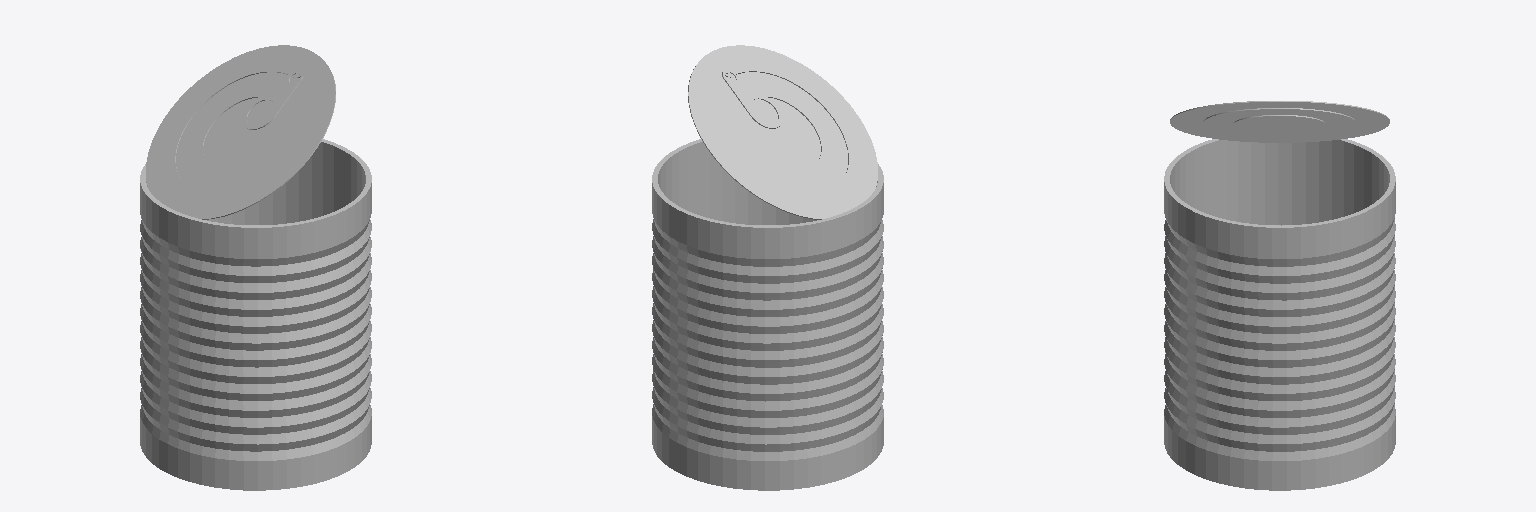
Rendered from Canfood.obj.
3 views of the same model, side by side, from view 1: azimuth 30°, elevation 25°; view 2: azimuth 150°, elevation 25°; view 3: azimuth 270°, elevation 25° (orthographic).
Visible parts, largest first — view 1: Mesh1 Group1 Model, Mesh2 Group3 Group2 Model, Mesh3 Group4 Group2 Model; view 2: Mesh1 Group1 Model, Mesh2 Group3 Group2 Model, Mesh3 Group4 Group2 Model; view 3: Mesh1 Group1 Model, Mesh2 Group3 Group2 Model.
Part boxes in pixels (x1,y1,x2,y2): Mesh1 Group1 Model: (140,139,371,490); Mesh2 Group3 Group2 Model: (146,45,335,219); Mesh3 Group4 Group2 Model: (242,71,302,129); Mesh1 Group1 Model: (652,139,883,490); Mesh2 Group3 Group2 Model: (688,45,877,219); Mesh3 Group4 Group2 Model: (722,70,782,128); Mesh1 Group1 Model: (1164,139,1395,490); Mesh2 Group3 Group2 Model: (1170,101,1389,142).
Size of the model in its own units: 200 by 353 by 200.